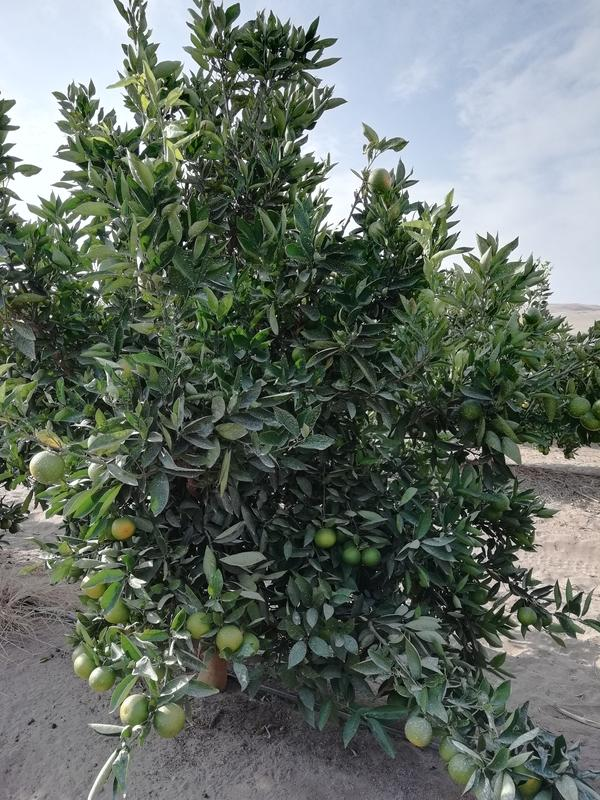mandarina verde: (29, 451, 64, 485), (153, 704, 185, 737), (120, 693, 150, 726), (404, 716, 433, 747), (449, 753, 475, 785), (215, 625, 244, 653), (88, 666, 114, 693), (187, 612, 211, 638), (369, 168, 392, 194), (111, 517, 135, 540), (460, 399, 484, 420), (74, 653, 92, 680), (316, 526, 336, 548), (516, 606, 538, 626), (363, 547, 382, 567), (569, 398, 589, 417), (342, 546, 361, 564), (581, 414, 600, 432), (523, 307, 541, 325)
